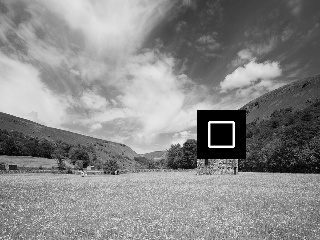square: (197, 110, 246, 159)
